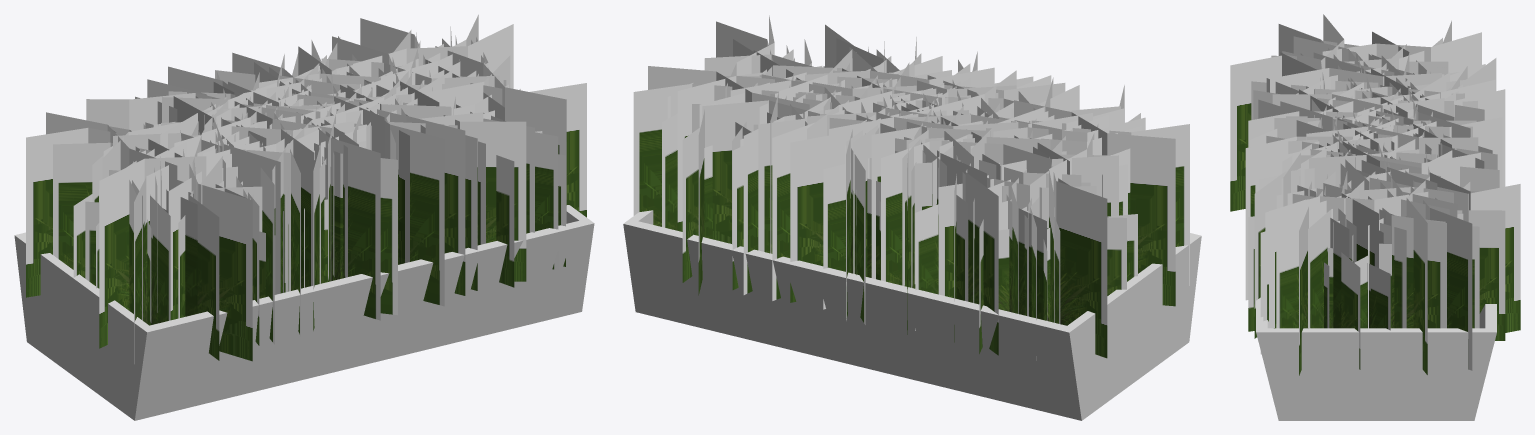
File: grass.fbx
The picture shows the model from 3 angles, left to right: view 1: azimuth 30°, elevation 25°; view 2: azimuth 150°, elevation 25°; view 3: azimuth 270°, elevation 25°; orthographic projection. The views are drawn at different scales.
Parts seen in each view (by area): view 1: grass.001; view 2: grass.001; view 3: grass.001.
Boxes of the visible parts, box(x1,y1,x2,y2) form: grass.001: box(14, 14, 594, 420); grass.001: box(623, 15, 1201, 420); grass.001: box(1230, 14, 1520, 420).
Bounding box in the file's own units: 102 × 46.81 × 59.28.
3 materials, 2 textured.
